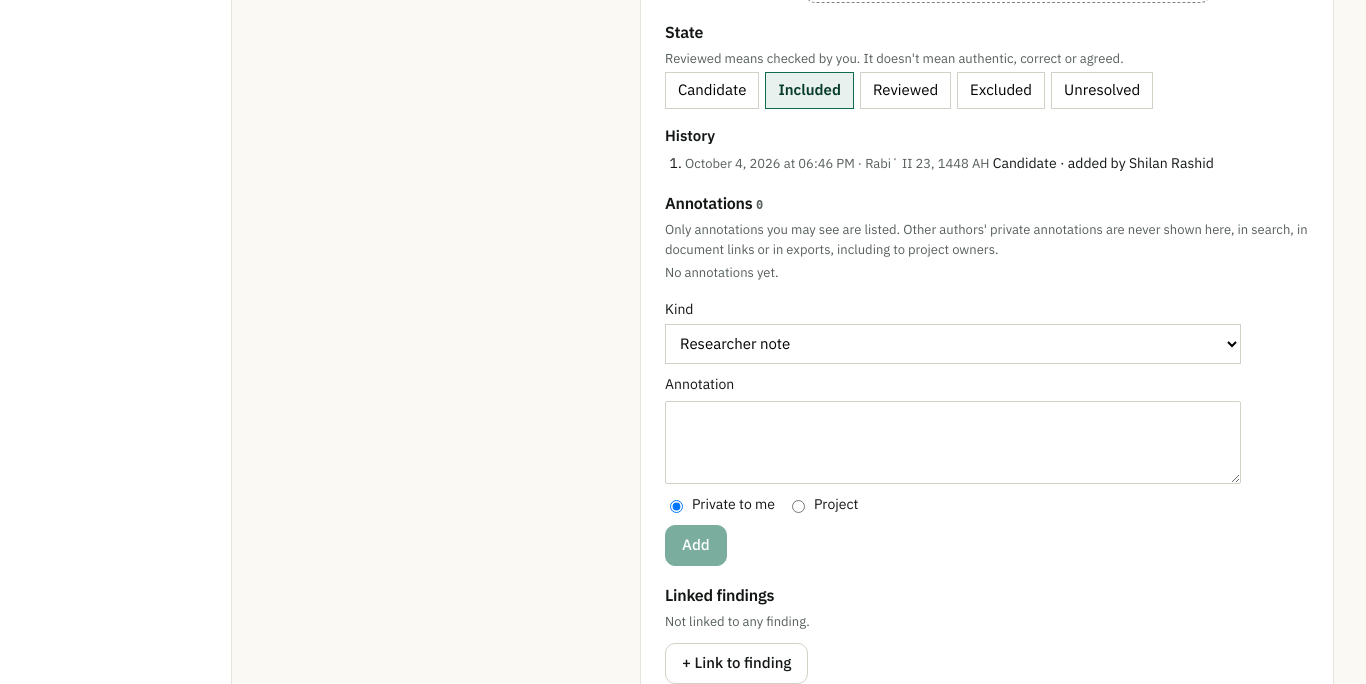
Annotations, findings and removal › warns when the server saved a judgment but dropped its attribution (C-16)
(page scrolled)
Select "Attributed judgment (needs a source)" in the dropdown labelled "Kind" at (953, 344), box [665,324,1241,364]
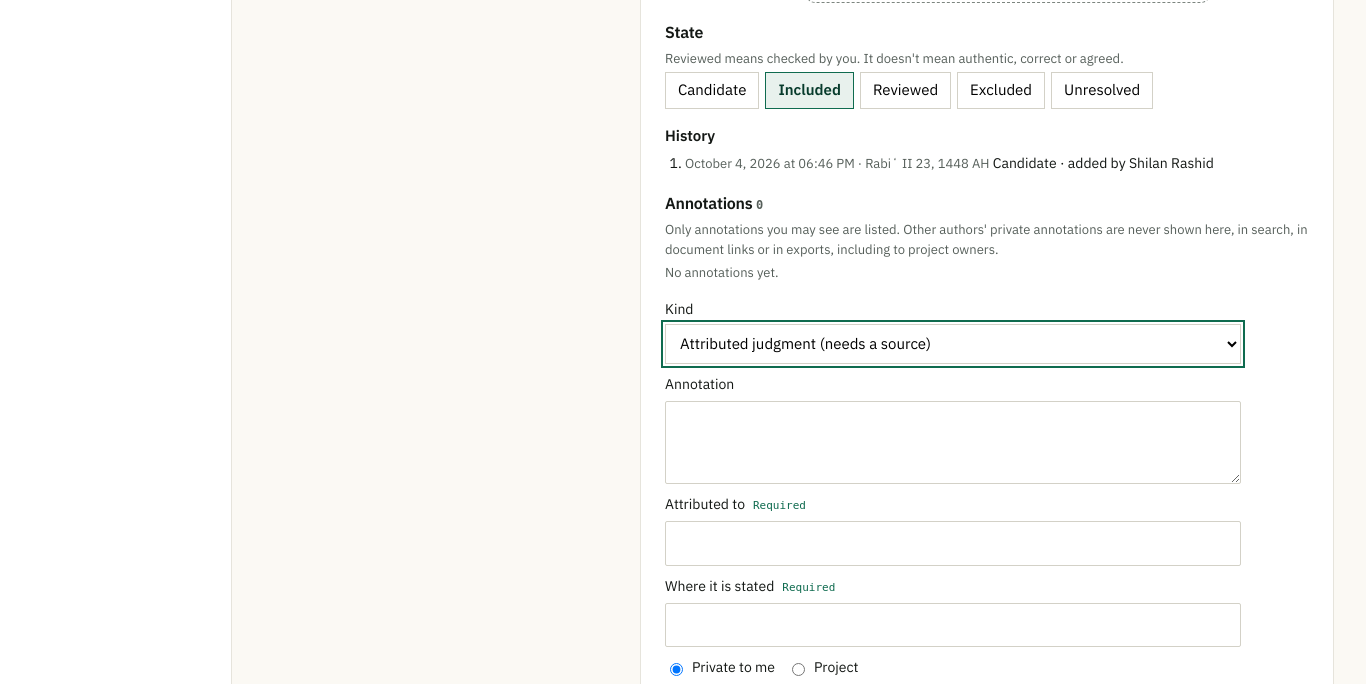
Type "Judged weak" into the text box labelled "Annotation" at (953, 442), box [665,401,1241,484]
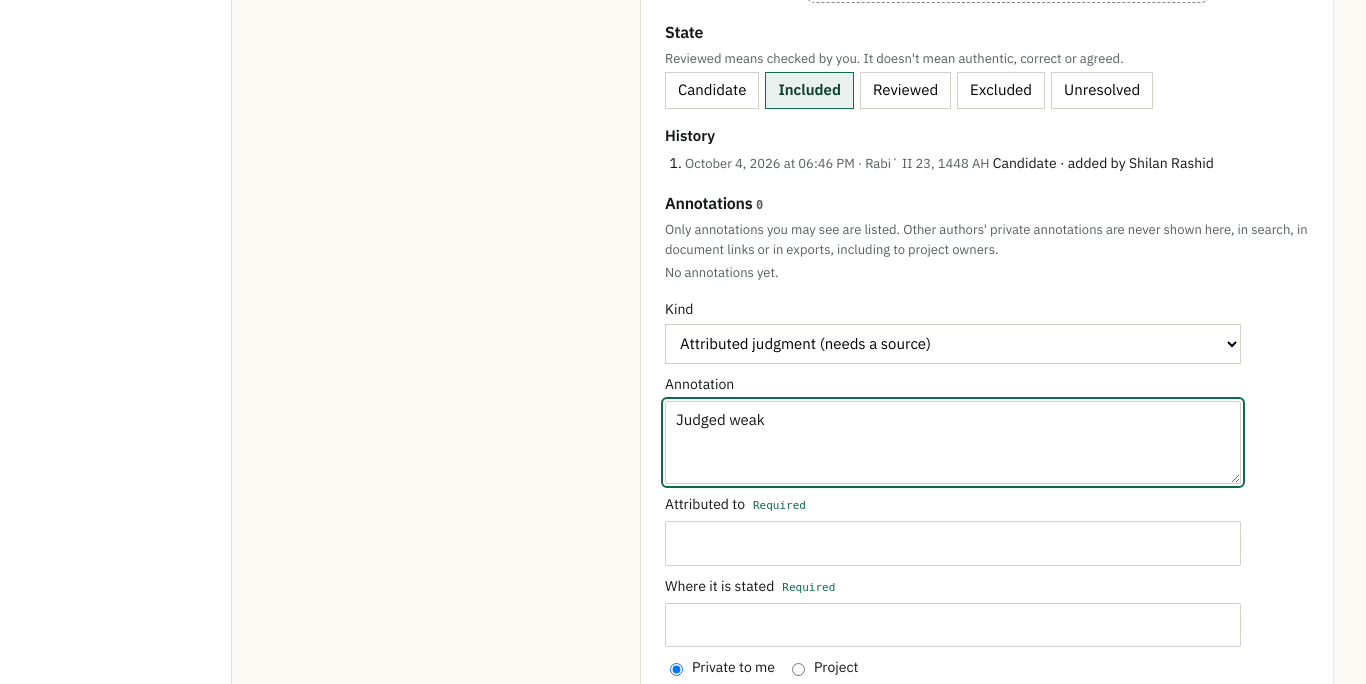
Type "al-Tirmidhī" into the field labelled "Attributed to Required" at (953, 543), box [665,521,1241,566]
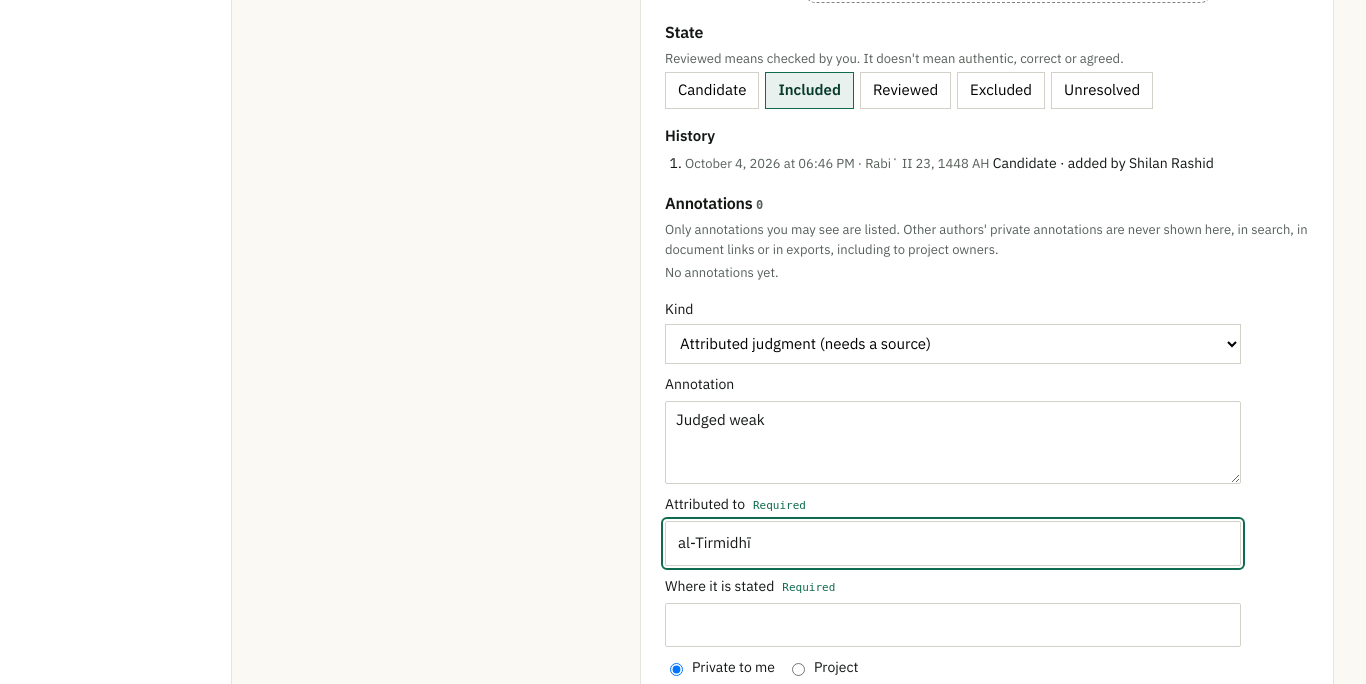
Type "Sunan no. 12" into the field labelled "Where it is stated Required" at (953, 625), box [665,603,1241,647]
(page scrolled)
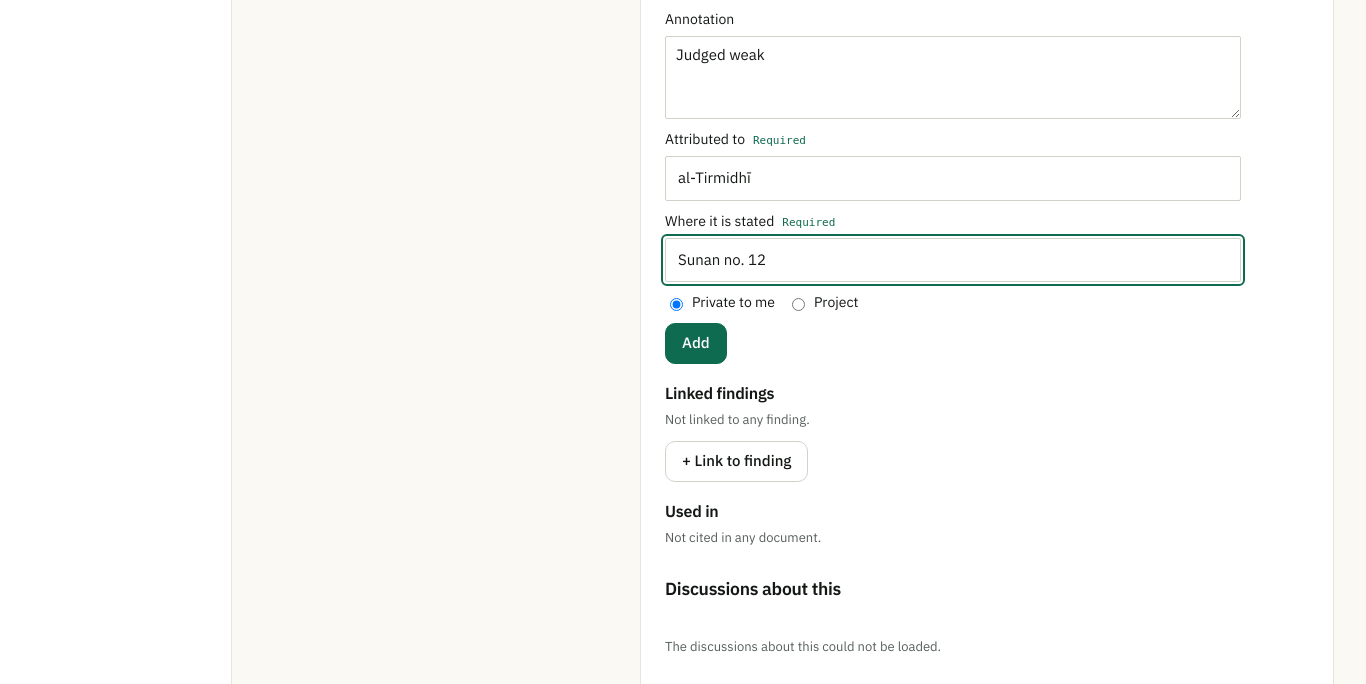
Click the button "Add" at (696, 343), box [665,323,727,364]
(page scrolled)
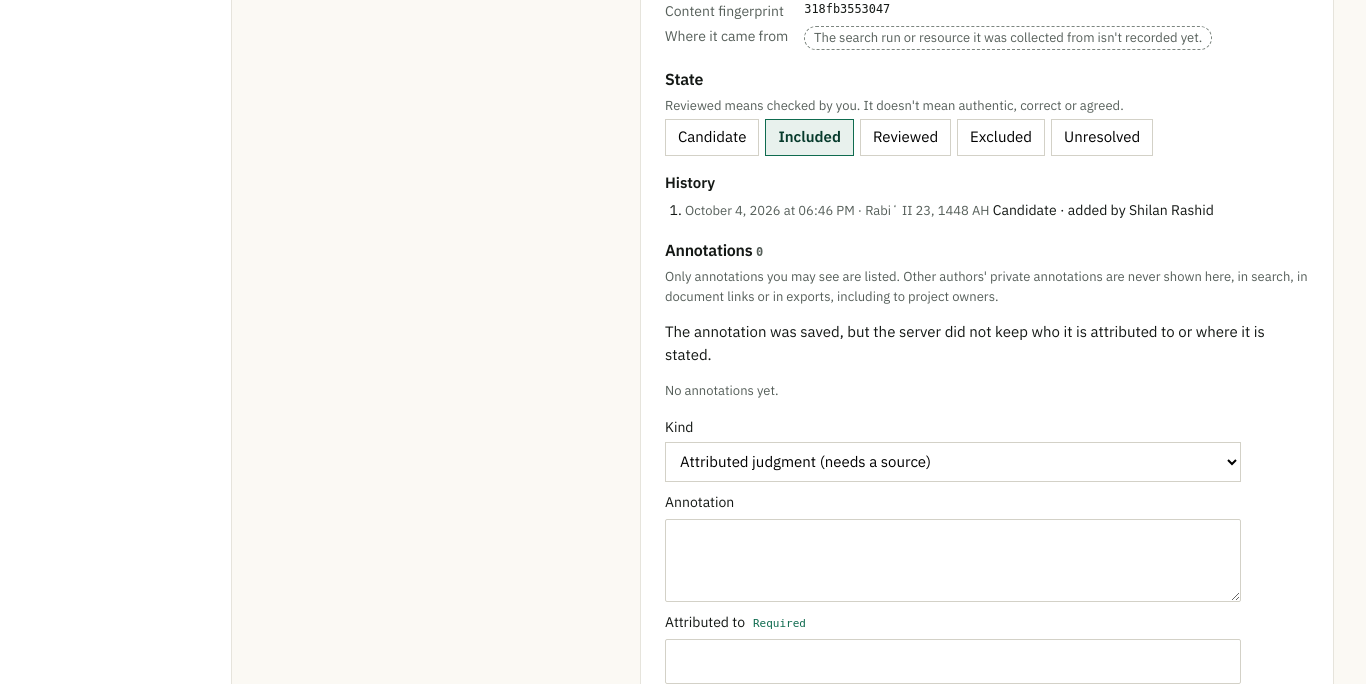
expect the text "did not keep who it is attributed to" is shown: met, box [665,321,1265,366]
